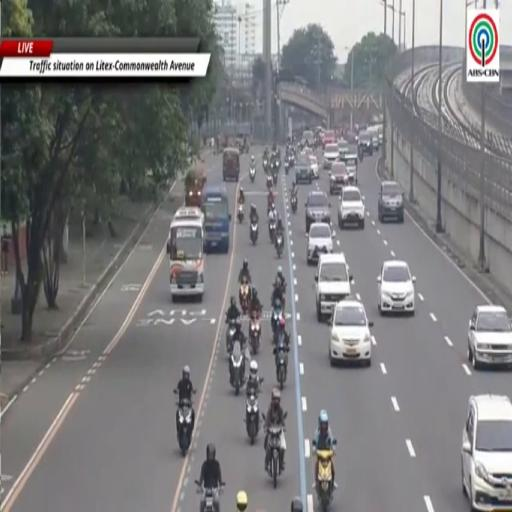bus: (167, 217, 204, 301), (202, 184, 232, 253)
car: (462, 394, 511, 511), (329, 299, 373, 366), (468, 306, 511, 370), (315, 253, 352, 322), (378, 260, 416, 315), (339, 186, 365, 229), (307, 222, 333, 264), (378, 181, 404, 222), (305, 191, 330, 232), (330, 162, 348, 195), (174, 206, 204, 225), (343, 146, 357, 184), (323, 143, 339, 169), (295, 163, 312, 184), (358, 132, 373, 155), (309, 155, 318, 179), (301, 131, 314, 147), (338, 139, 348, 157), (324, 131, 335, 145), (372, 134, 379, 151), (304, 148, 314, 156), (378, 131, 383, 146)
motorcycle: (316, 450, 334, 511), (266, 425, 283, 488), (177, 400, 193, 456), (195, 480, 222, 511), (230, 340, 245, 395), (273, 340, 289, 390), (245, 393, 259, 444), (249, 315, 260, 355), (226, 319, 238, 354), (271, 299, 283, 334), (239, 280, 250, 314), (267, 190, 275, 216), (275, 233, 283, 258), (250, 222, 258, 245), (269, 219, 276, 243), (271, 164, 278, 185), (237, 204, 244, 222), (291, 196, 297, 214), (249, 167, 255, 182), (358, 146, 363, 162), (267, 174, 272, 189), (263, 158, 268, 171), (285, 159, 289, 174)
truck: (185, 163, 206, 207)
